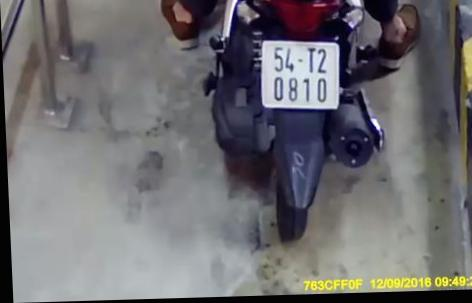License_Plate: (255, 33, 346, 116)
